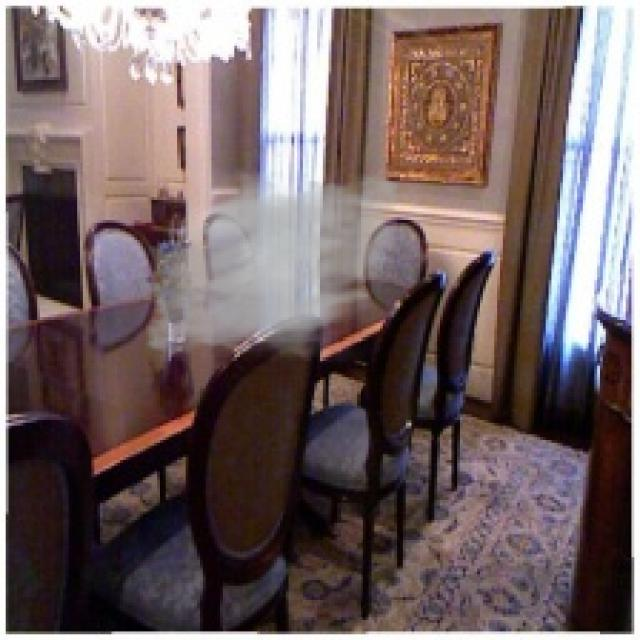smoke: (134, 160, 412, 374)
